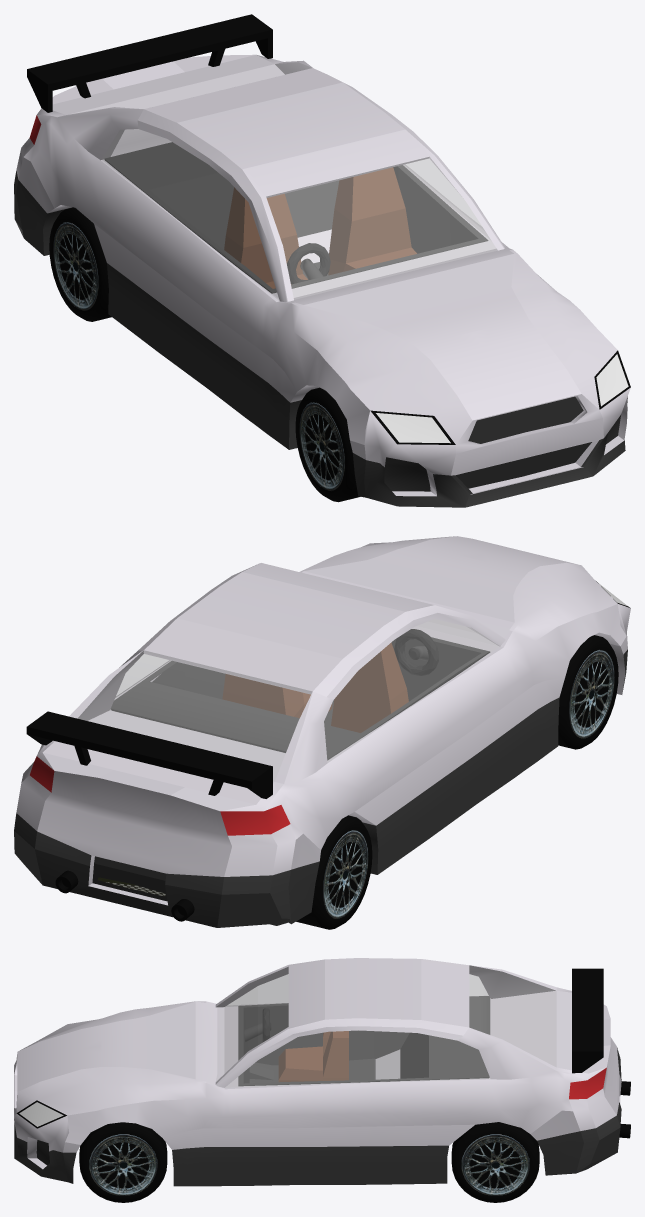
File: BMW.fbx
3 renders of one model, top to bottom at view 1: azimuth 30°, elevation 25°; view 2: azimuth 150°, elevation 25°; view 3: azimuth 270°, elevation 25°, orthographic. The views are drawn at different scales.
Visible parts, largest first — view 1: bmw sedan, evo.002, back_right.015, front_right.015, steeringwheel.003; view 2: bmw sedan, evo.002, front_right.015, back_right.015, steeringwheel.003, exhaust.001; view 3: bmw sedan, front_left.015, back_left.015, evo.002.
Boxes of the visible parts, x1,y1,x2,y2 form: bmw sedan: [14, 54, 630, 507]; evo.002: [27, 14, 272, 112]; back_right.015: [49, 207, 111, 321]; front_right.015: [295, 387, 360, 502]; steeringwheel.003: [287, 243, 330, 284]; bmw sedan: [14, 536, 630, 927]; evo.002: [26, 711, 272, 798]; front_right.015: [558, 635, 618, 749]; back_right.015: [296, 815, 372, 929]; steeringwheel.003: [394, 629, 438, 675]; exhaust.001: [55, 870, 194, 921]; bmw sedan: [14, 958, 621, 1186]; front_left.015: [79, 1122, 167, 1202]; back_left.015: [451, 1122, 539, 1202]; evo.002: [572, 968, 603, 1073].
Size of the model in its own units: 317 by 122 by 94.76.
